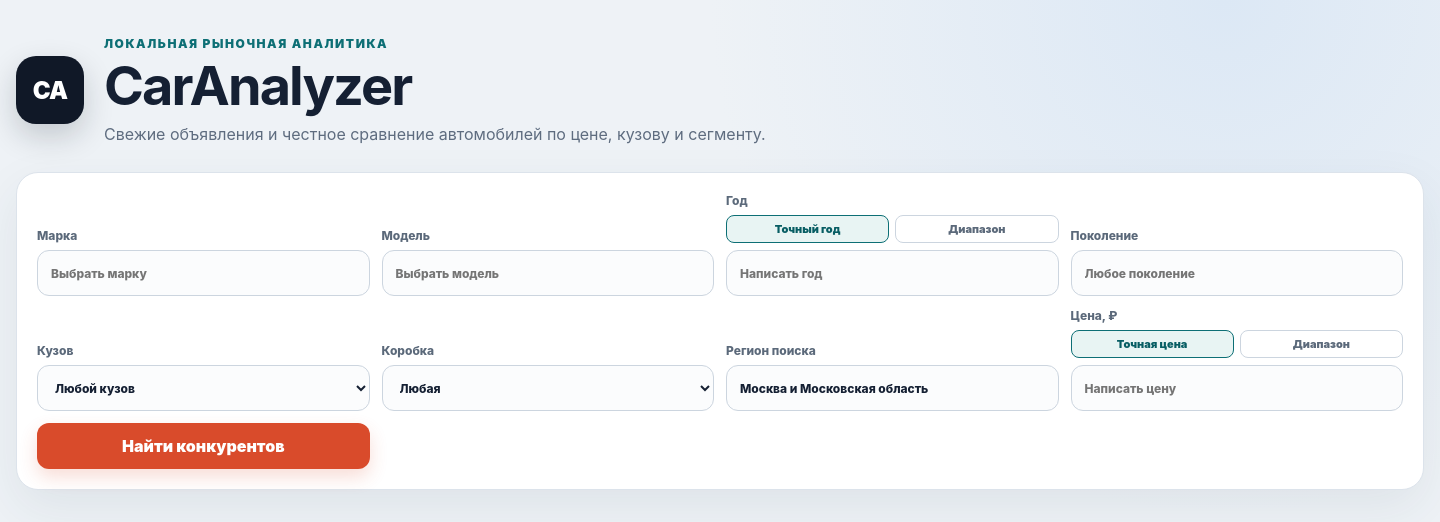
Scenario: CarAnalyzer form › has dependent brand/model controls and explicit ANY filters
Expected: the dropdown labelled "Модель" is disabled, [382,250,714,296]
Step 1. Type "Example Brand" into the dropdown labelled "Марка" → (203, 273), box [37,250,370,296]
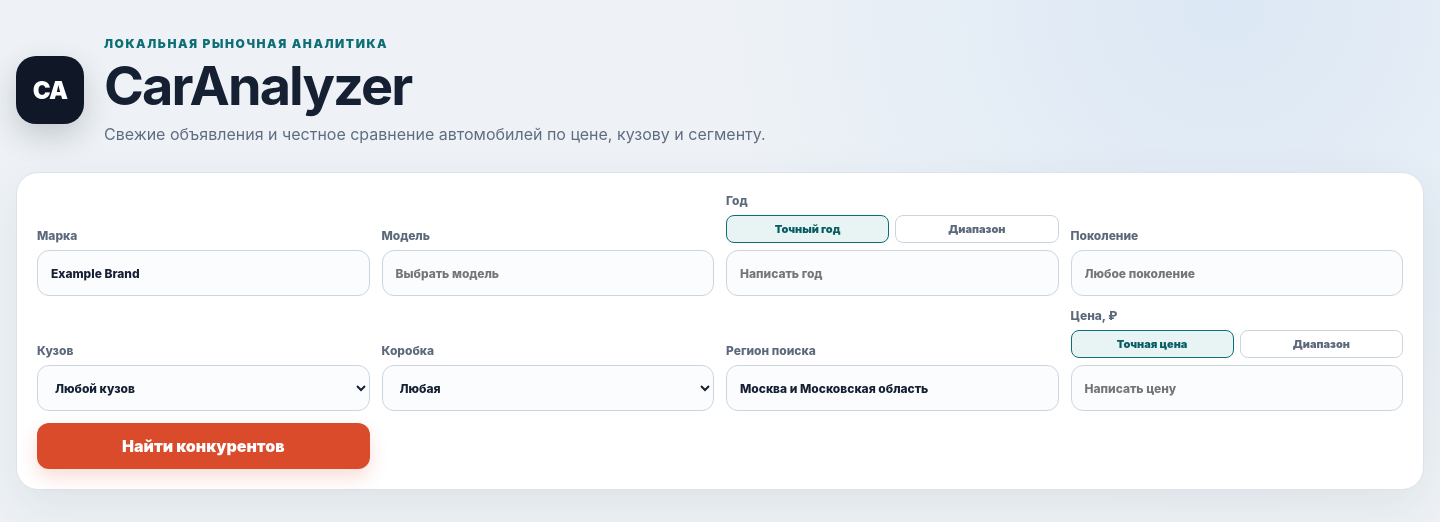
Step 2. Focus the dropdown labelled "Модель" → (548, 273), box [382,250,714,296]
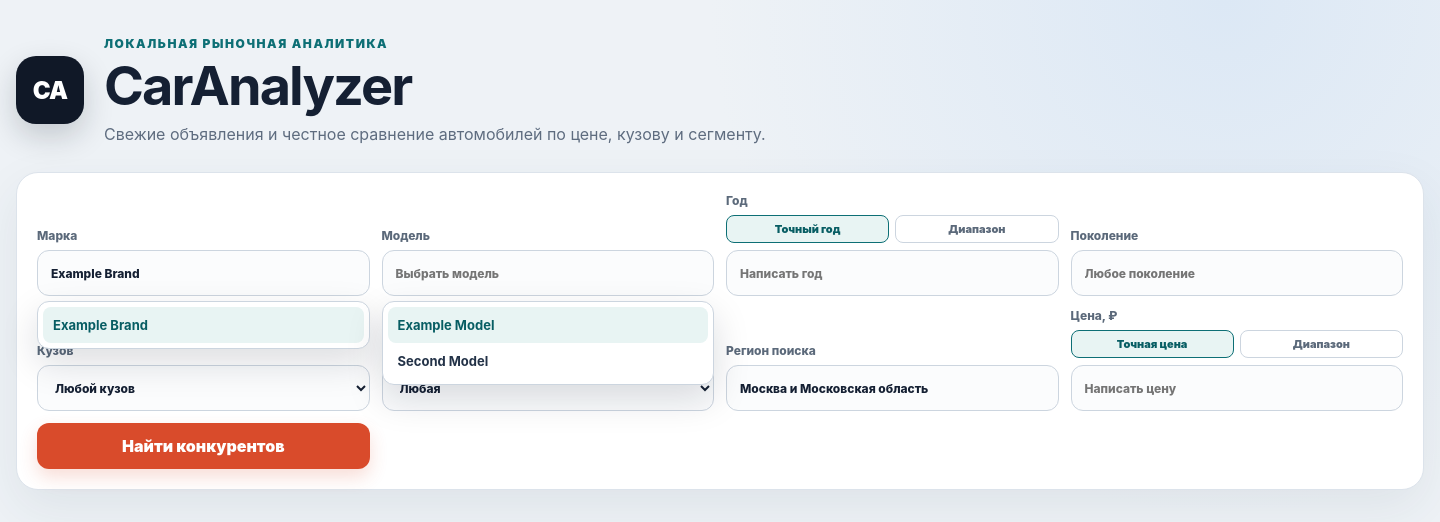
Expected: the dropdown labelled "Кузов" shows "Любой кузов", [37,365,370,411]
Result: the option "Example Model" is shown at [388,307,708,343]
